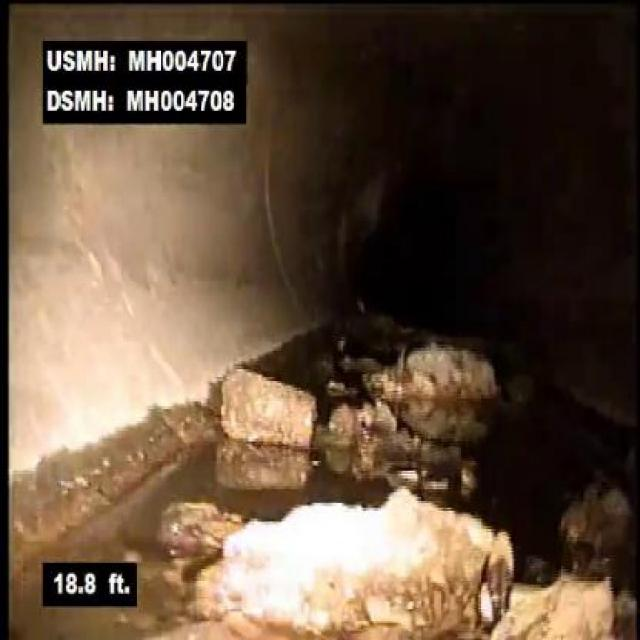Obstacle: (197, 460, 569, 638), (366, 329, 499, 428), (219, 357, 323, 455)
